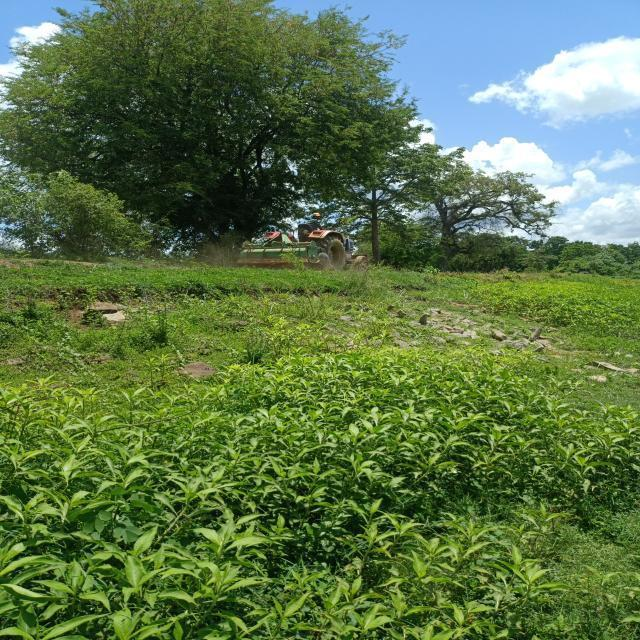tractor_back: (228, 200, 378, 280)
